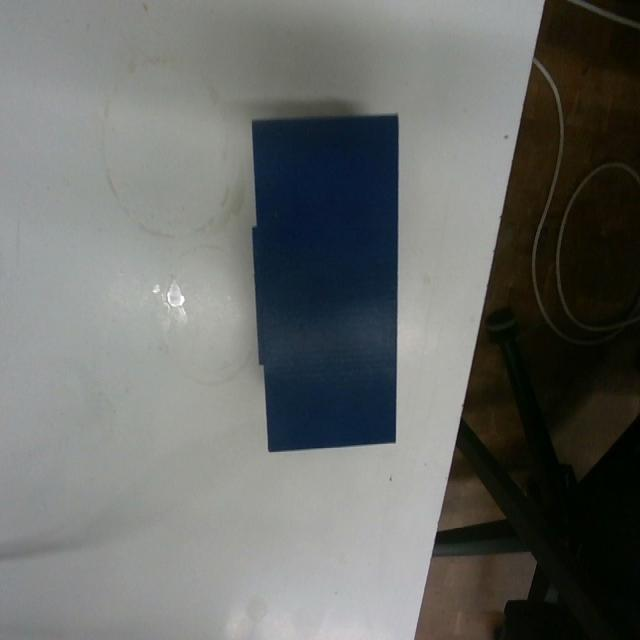Blue Cuboid: (248, 111, 400, 453)
